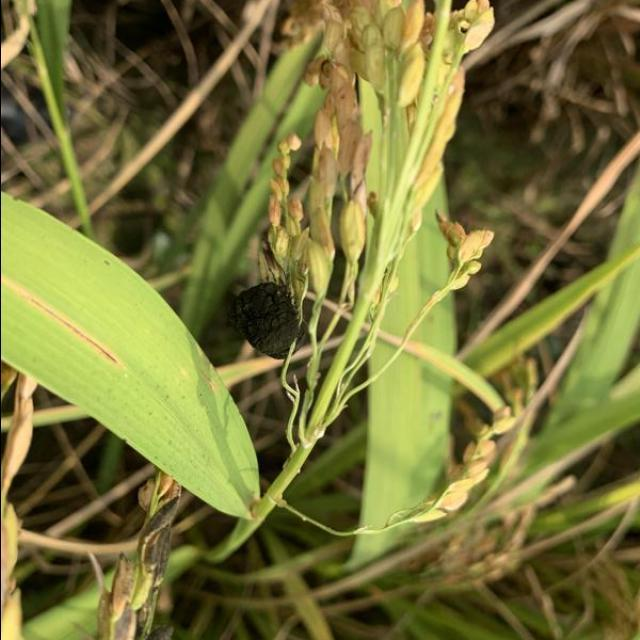Leaf_Scald: (230, 277, 306, 364)
